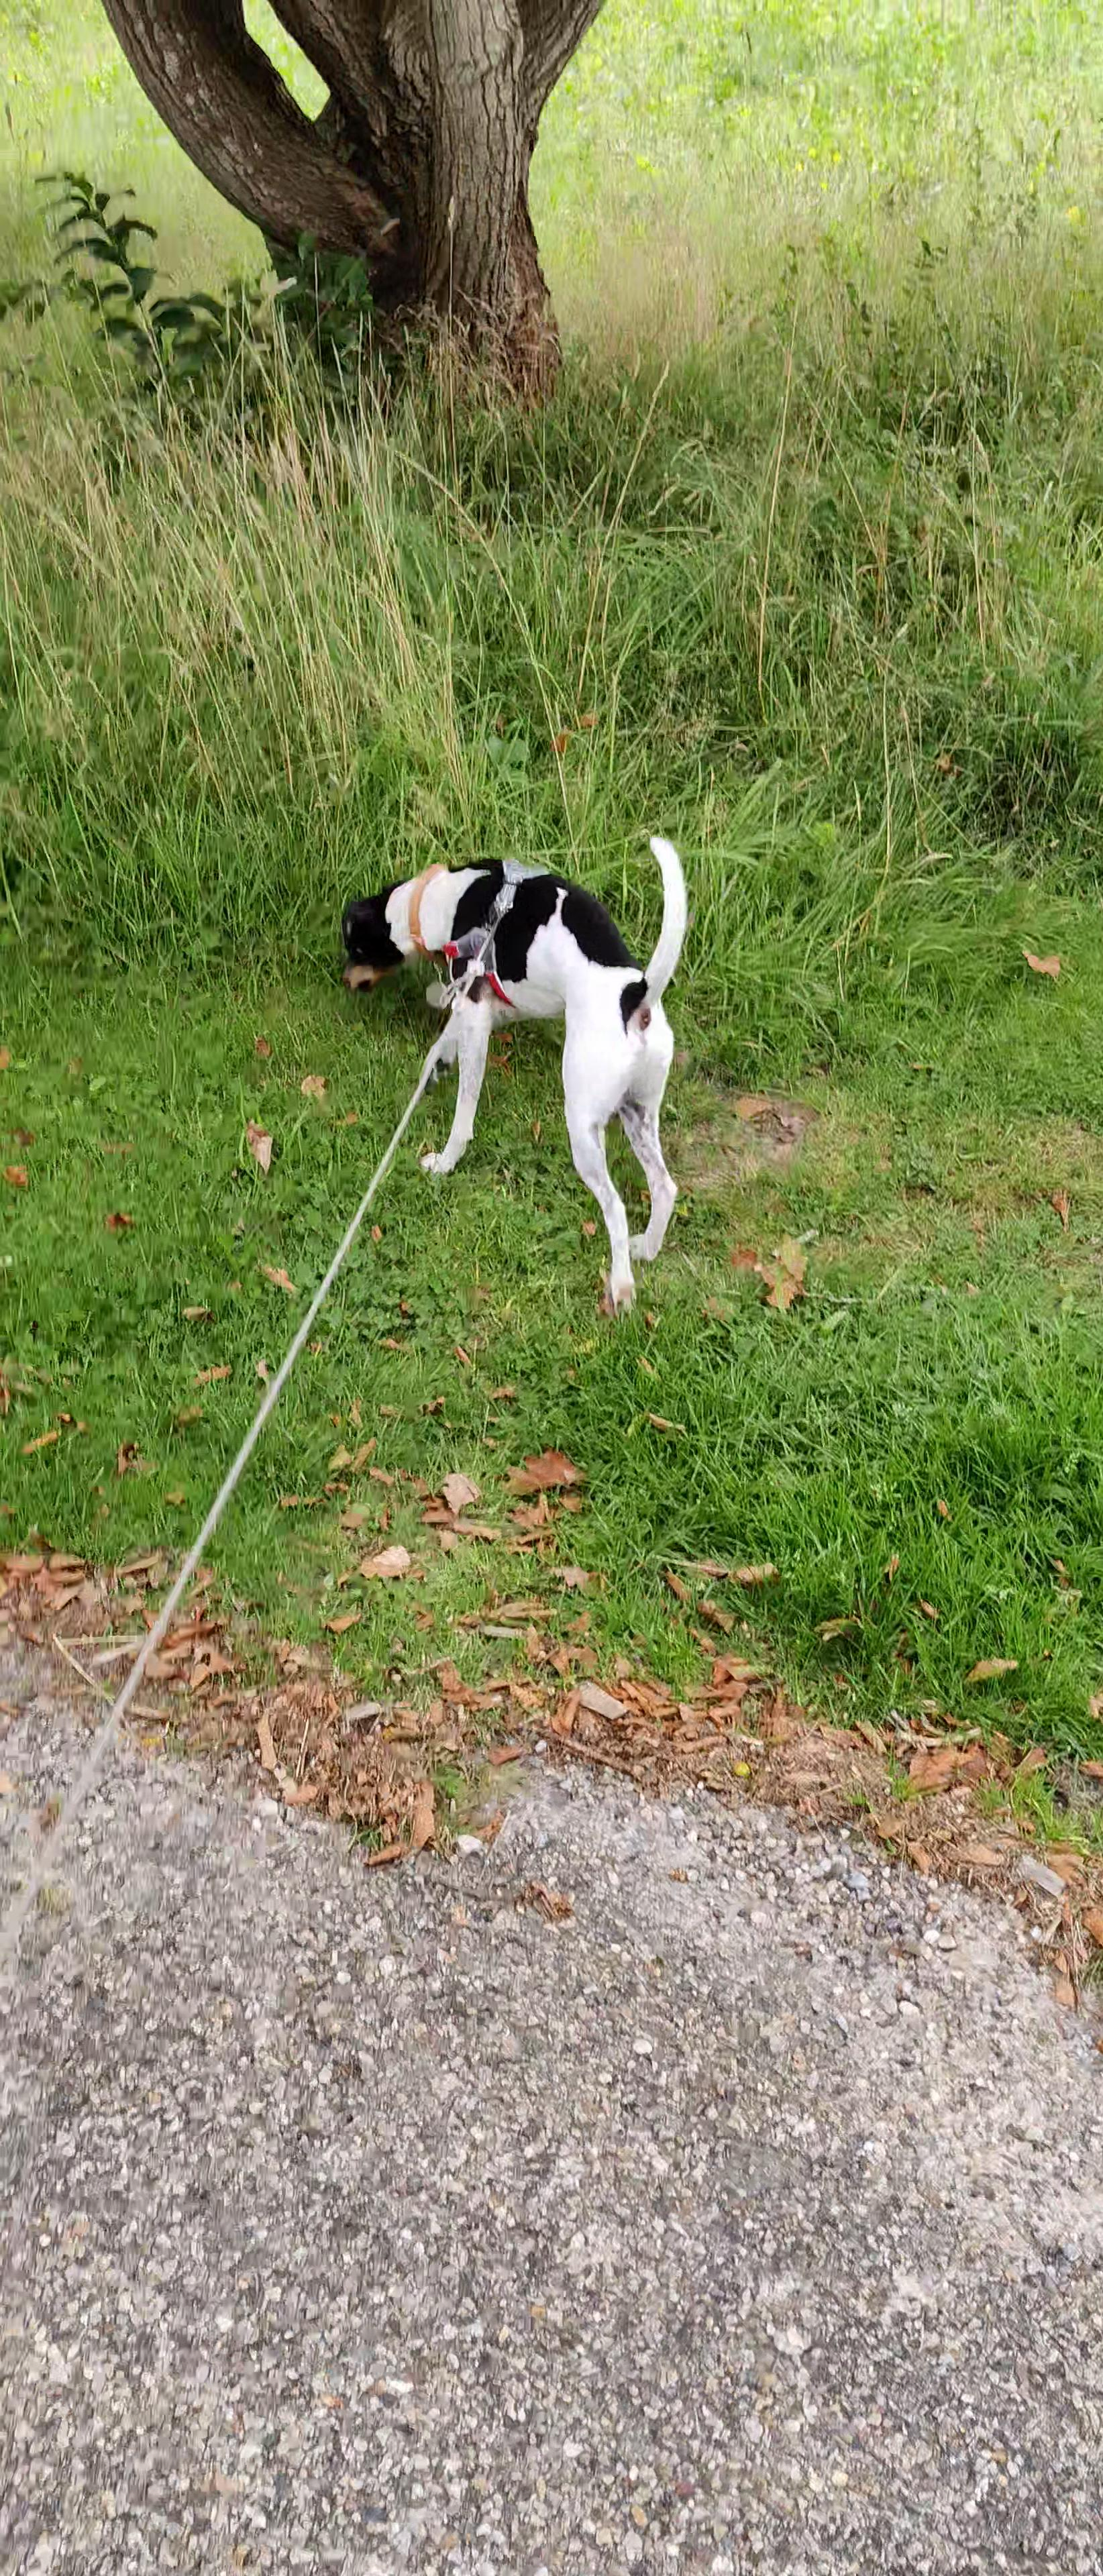Dog: (325, 812, 708, 1326)
